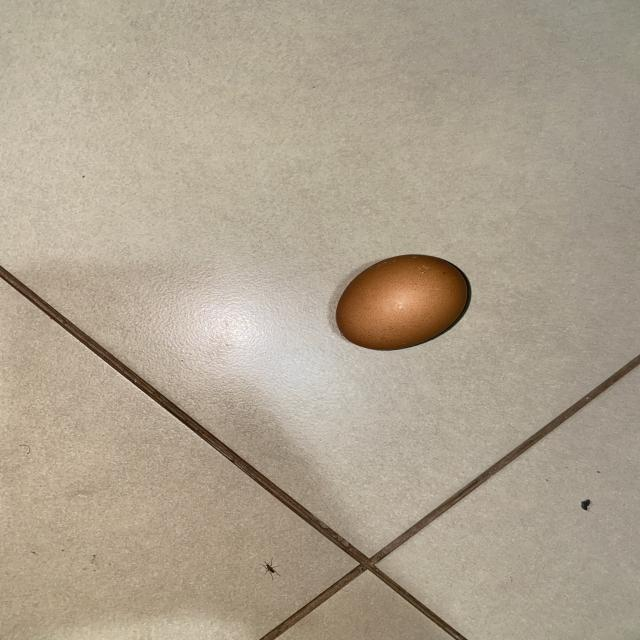egg: (329, 247, 476, 356)
